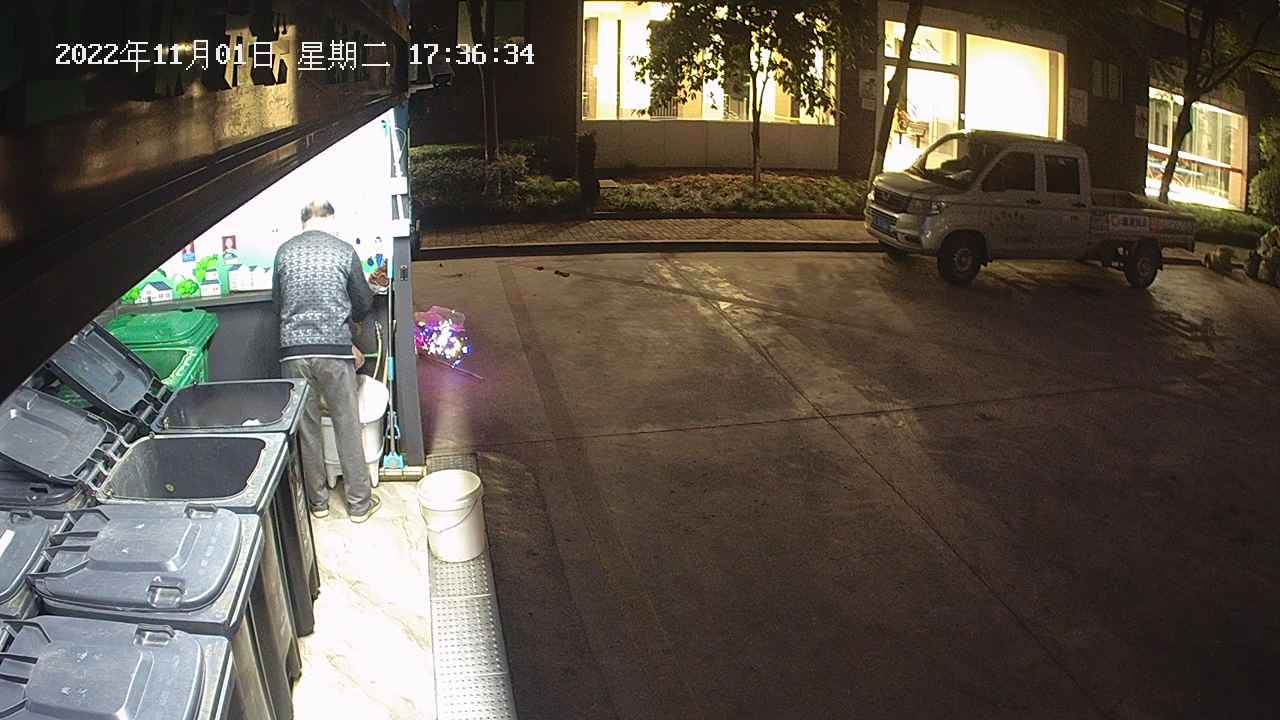person: (268, 197, 382, 523)
youtong: (416, 466, 489, 564)
